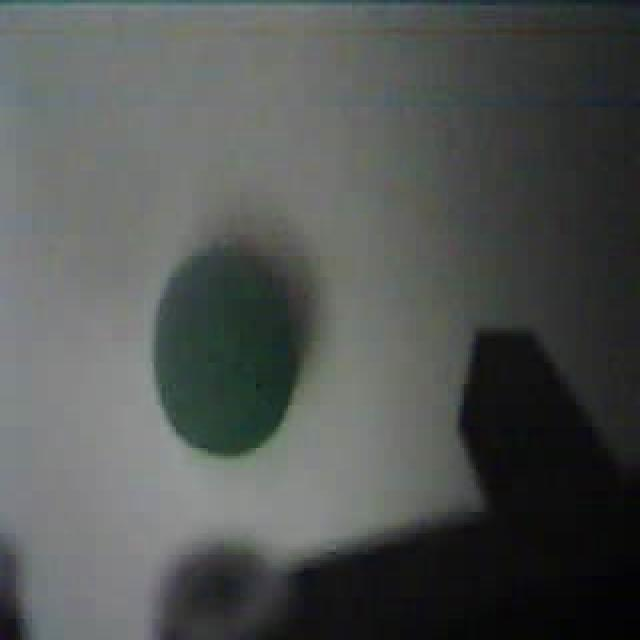green_ball: (150, 232, 310, 459)
